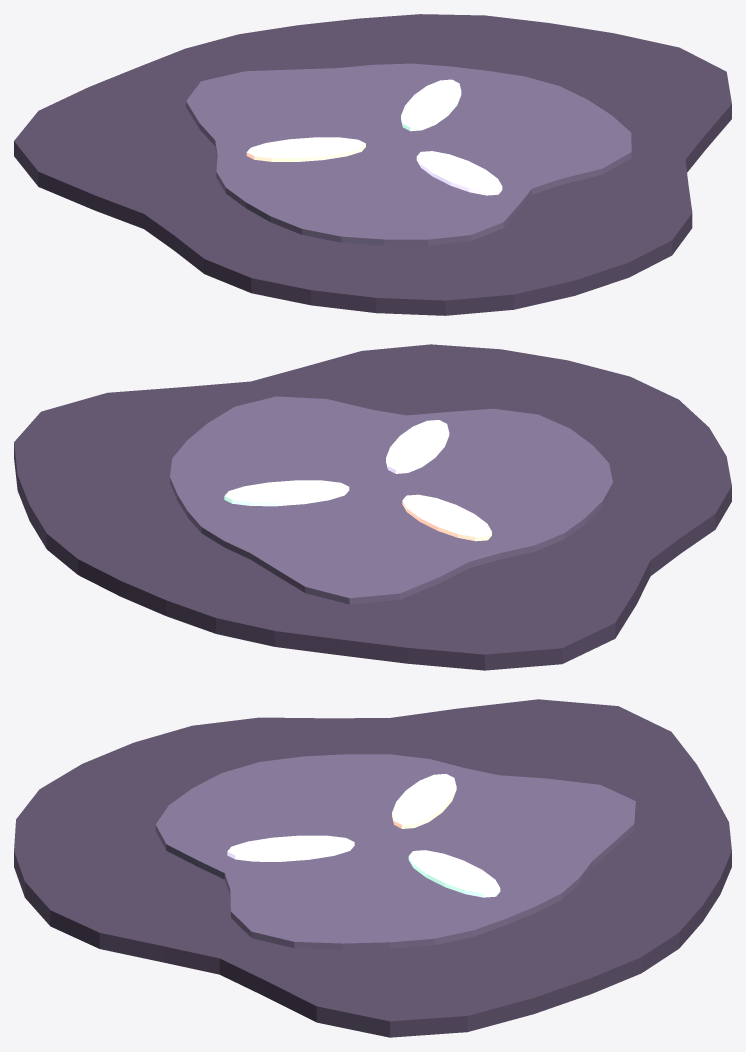
File: oilslick.glb
3 renders of one model, top to bottom at view 1: azimuth 30°, elevation 25°; view 2: azimuth 150°, elevation 25°; view 3: azimuth 270°, elevation 25°, orthographic. The views are drawn at different scales.
Parts seen in each view (by area): view 1: OilPuddle, OilSheen, OilCoral, OilLavender, OilMint; view 2: OilPuddle, OilSheen, OilMint, OilCoral, OilLavender; view 3: OilPuddle, OilSheen, OilLavender, OilMint, OilCoral.
Part boxes in pixels (<box>): OilPuddle: <box>14,14,731,315</box>; OilSheen: <box>186,63,631,245</box>; OilCoral: <box>246,137,365,161</box>; OilLavender: <box>416,151,502,195</box>; OilMint: <box>401,79,461,131</box>; OilPuddle: <box>14,344,731,670</box>; OilSheen: <box>170,396,612,604</box>; OilMint: <box>224,480,349,506</box>; OilCoral: <box>402,494,491,541</box>; OilLavender: <box>386,420,449,473</box>; OilPuddle: <box>14,699,731,1037</box>; OilSheen: <box>155,754,635,949</box>; OilLavender: <box>227,835,354,861</box>; OilMint: <box>408,850,500,897</box>; OilCoral: <box>392,774,456,828</box>.
Bounding box in the file's own units: 2.12 × 0.085 × 2.
